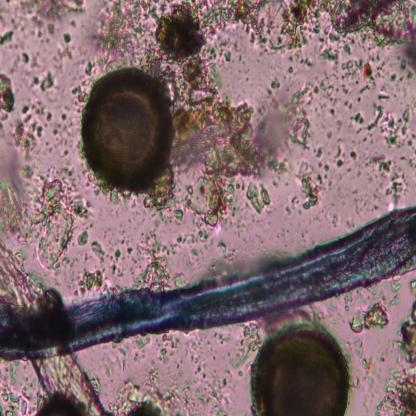Background material: (170, 65, 285, 226), (209, 0, 416, 48), (0, 170, 74, 264), (376, 276, 416, 415), (86, 0, 154, 73), (112, 231, 188, 294), (149, 1, 211, 78), (316, 48, 390, 99), (174, 366, 231, 414), (110, 376, 174, 415), (15, 100, 56, 160), (280, 83, 316, 150), (15, 0, 87, 33), (369, 152, 408, 209), (369, 102, 416, 149), (345, 342, 381, 392), (101, 186, 176, 210), (122, 334, 176, 365), (0, 370, 38, 414), (228, 323, 262, 371), (296, 170, 326, 211), (388, 45, 416, 87), (349, 304, 389, 331), (53, 110, 74, 157), (368, 283, 404, 309), (74, 269, 110, 294), (28, 73, 60, 101), (244, 181, 272, 212), (52, 30, 74, 69), (191, 229, 215, 262), (0, 72, 17, 115), (74, 196, 97, 226), (333, 144, 357, 168), (90, 240, 110, 267), (11, 50, 40, 68), (284, 54, 311, 73), (210, 40, 234, 61), (69, 78, 87, 103), (218, 237, 236, 260), (0, 28, 16, 53), (352, 108, 365, 129), (75, 230, 89, 247), (212, 331, 230, 343), (315, 142, 323, 160), (327, 106, 336, 120), (324, 166, 332, 174)
Cellulose filter fibre: (0, 243, 107, 414)
Cotton: (0, 204, 416, 364)
Diatom: (79, 70, 174, 190), (248, 322, 351, 414)
